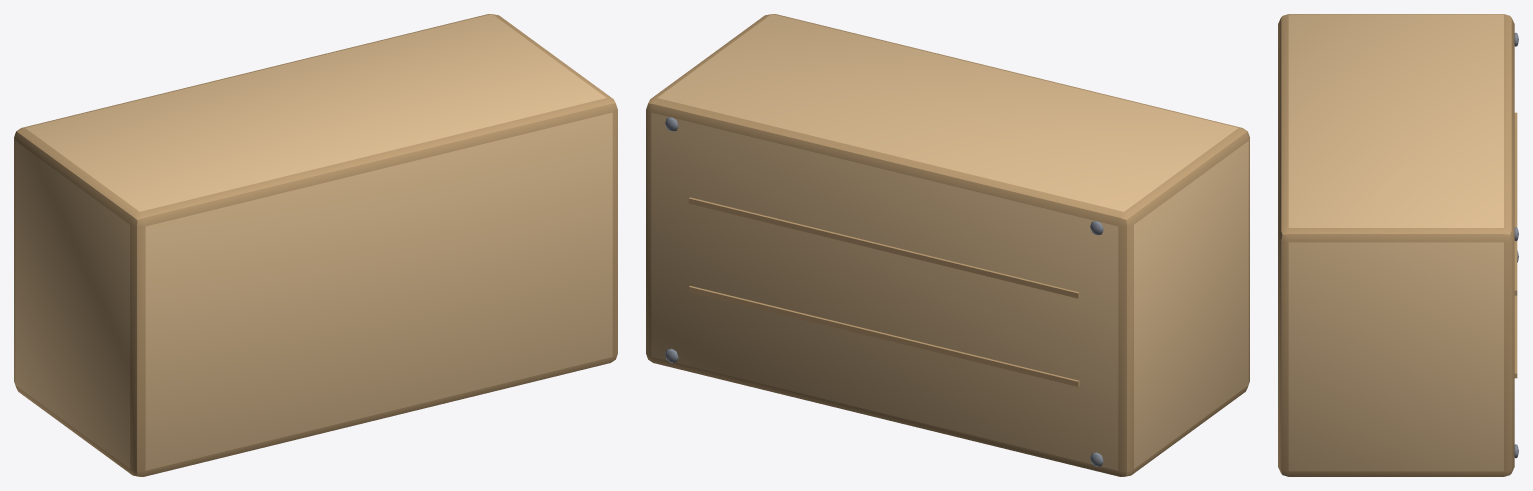
The model's file is RectangleMediumWood.fbx.
The picture shows the model from 3 angles, left to right: view 1: azimuth 30°, elevation 25°; view 2: azimuth 150°, elevation 25°; view 3: azimuth 270°, elevation 25°; orthographic projection. The views are drawn at different scales.
Parts seen in each view (by area): view 1: RectangleMediumWood; view 2: RectangleMediumWood; view 3: RectangleMediumWood.
Part boxes in pixels (left/top/right/bottom): RectangleMediumWood: left=14, top=14, right=617, bottom=476; RectangleMediumWood: left=646, top=14, right=1249, bottom=476; RectangleMediumWood: left=1278, top=14, right=1518, bottom=476.
Size of the model in its own units: 4.9 by 2.55 by 2.24.
